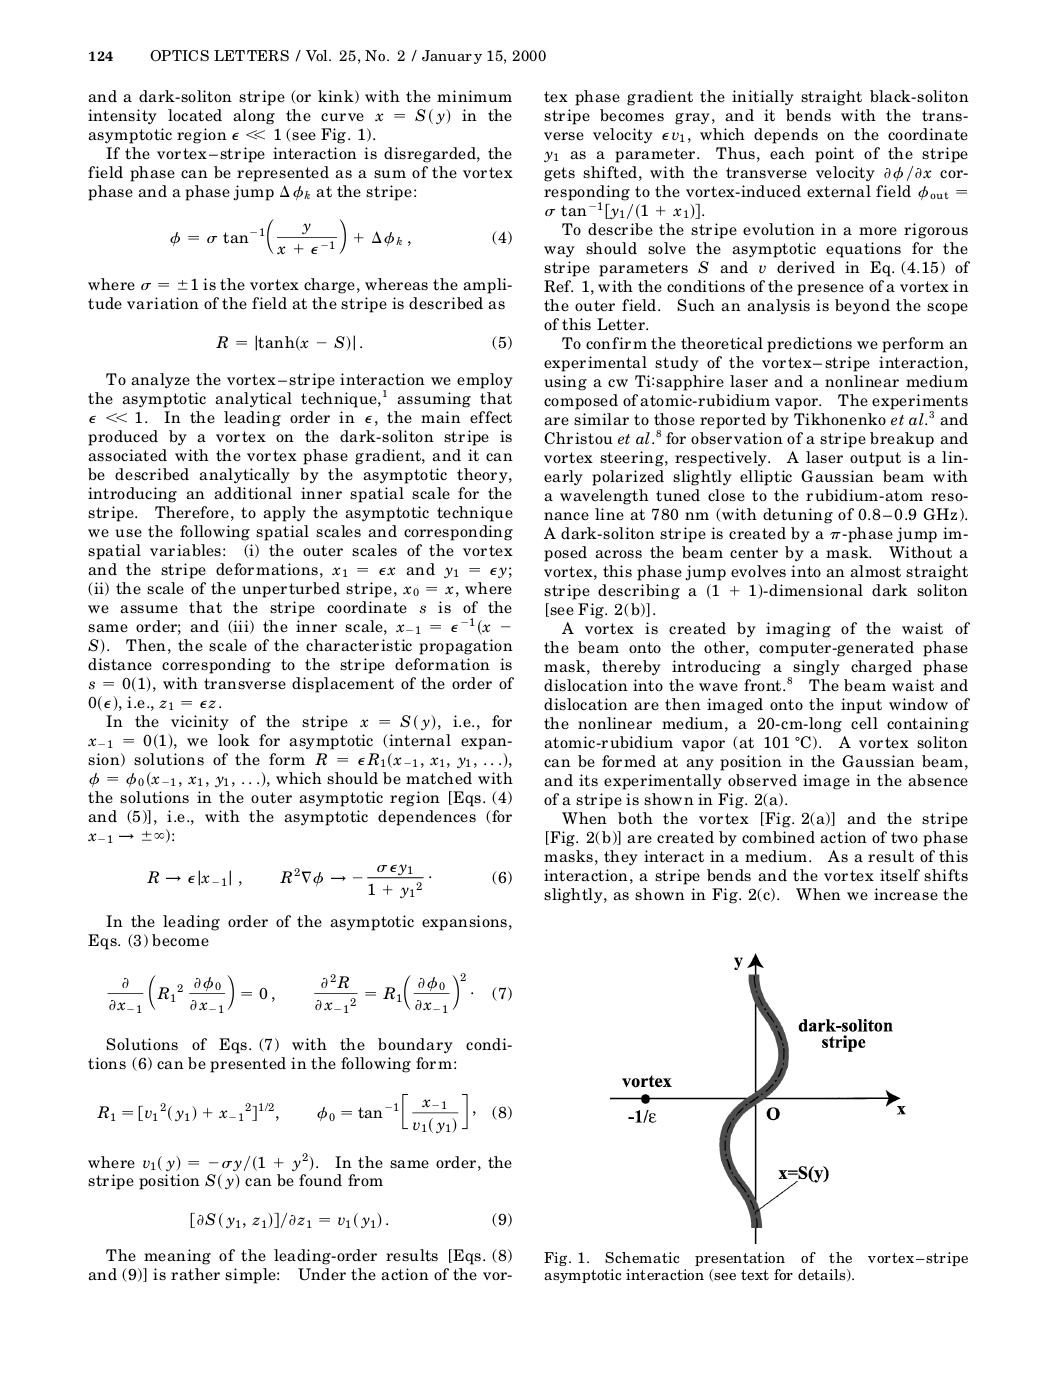figure: (610, 952, 905, 1244)
formula: (97, 1092, 512, 1135), (107, 972, 512, 1013), (147, 861, 512, 899), (171, 218, 512, 255), (189, 1211, 512, 1229), (216, 334, 512, 351)
